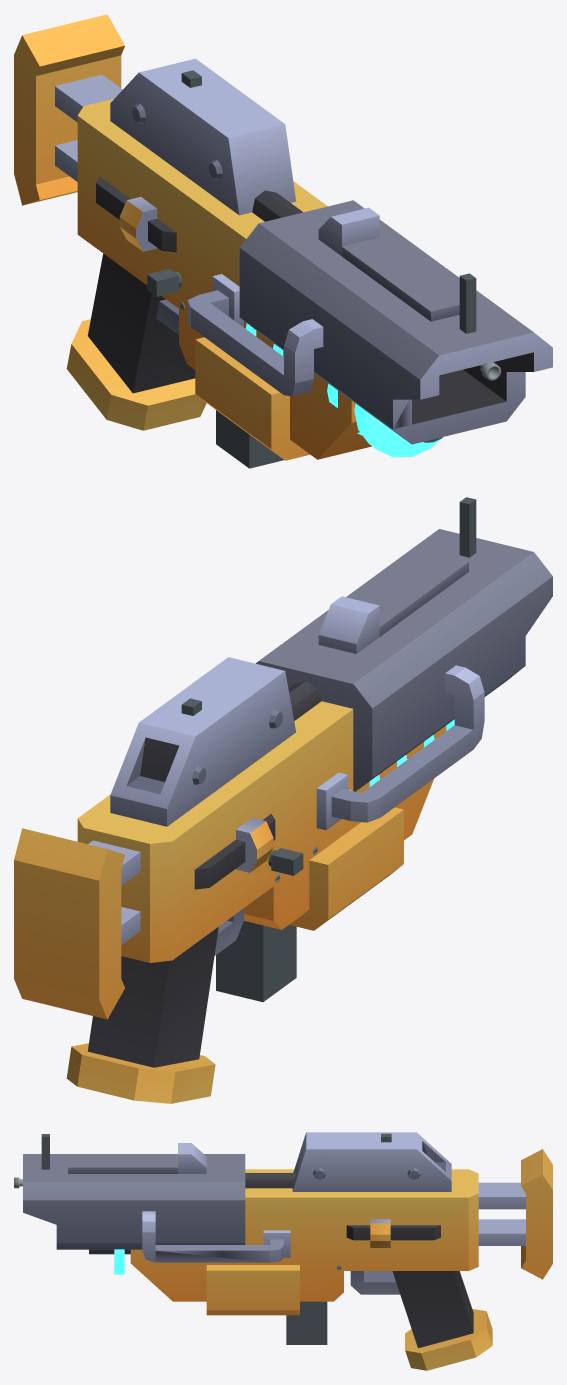
Rendered from weapon_10.glb.
3 renders of one model, top to bottom at view 1: azimuth 30°, elevation 25°; view 2: azimuth 150°, elevation 25°; view 3: azimuth 270°, elevation 25°, orthographic. The views are drawn at different scales.
Parts seen in each view (by area): view 1: receiver_geometry, CC0_weapon_10_geometry, magazine_geometry, charging_handle_geometry; view 2: receiver_geometry, magazine_geometry, CC0_weapon_10_geometry, charging_handle_geometry; view 3: receiver_geometry, magazine_geometry, CC0_weapon_10_geometry.
Part boxes in pixels (left/top/right/bottom): receiver_geometry: left=14, top=14, right=552, bottom=460; CC0_weapon_10_geometry: left=181, top=70, right=476, bottom=457; magazine_geometry: left=216, top=410, right=283, bottom=468; charging_handle_geometry: left=147, top=269, right=181, bottom=296; receiver_geometry: left=14, top=529, right=552, bottom=1103; magazine_geometry: left=216, top=921, right=296, bottom=1002; CC0_weapon_10_geometry: left=181, top=497, right=476, bottom=790; charging_handle_geometry: left=268, top=848, right=303, bottom=875; receiver_geometry: left=23, top=1132, right=552, bottom=1370; magazine_geometry: left=286, top=1301, right=327, bottom=1344; CC0_weapon_10_geometry: left=41, top=1133, right=391, bottom=1274.
Size of the model in its own units: 0.229 by 0.4199 by 0.915.
Materials: 6 (1 with a texture image).
